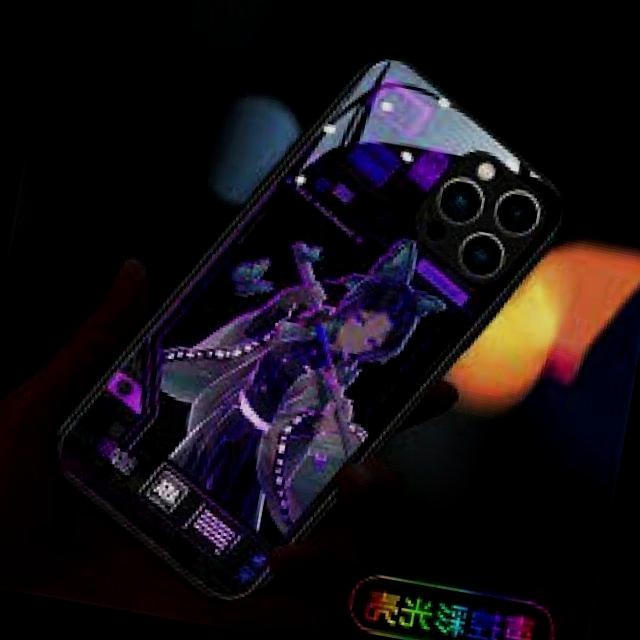lens: (426, 152, 546, 278)
phone: (58, 45, 559, 600)
